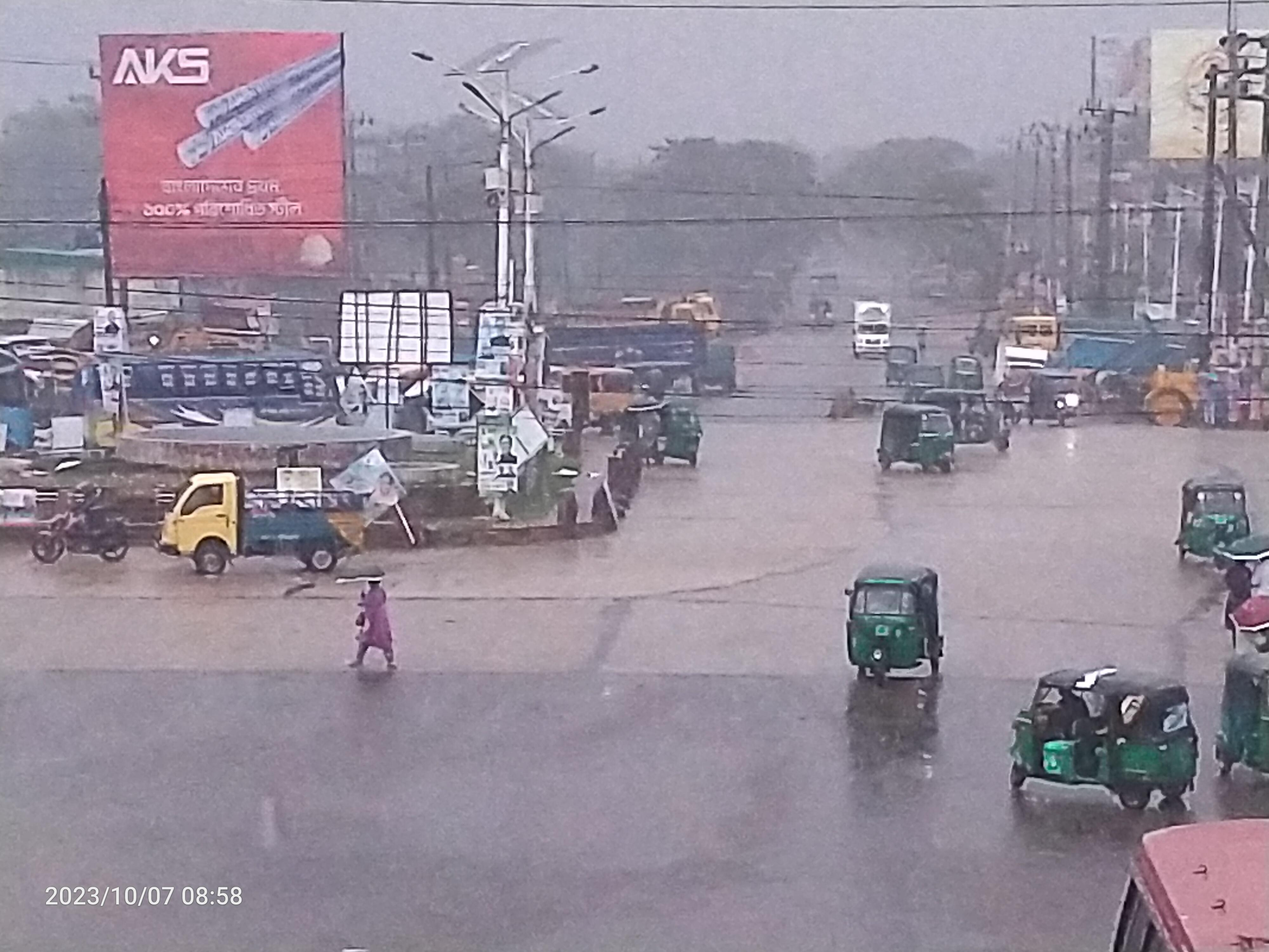Bike: (0, 468, 149, 578)
Bus: (77, 332, 367, 477), (1080, 801, 1269, 952)
Car: (1020, 361, 1109, 442)
Truck: (125, 456, 396, 603)
